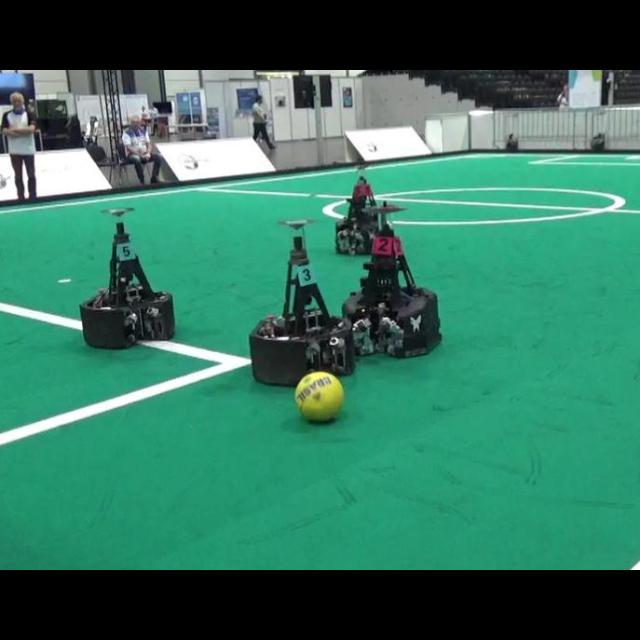ball: (294, 371, 344, 421)
robot: (250, 219, 356, 386), (343, 203, 442, 358), (80, 222, 173, 348), (336, 175, 378, 254)
